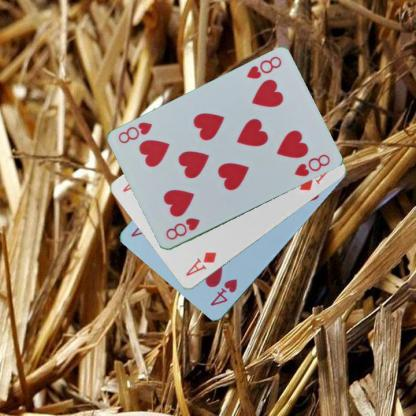4h: (208, 276, 238, 308)
8h: (243, 54, 283, 81), (163, 215, 201, 241)
Ad: (183, 250, 218, 278)
